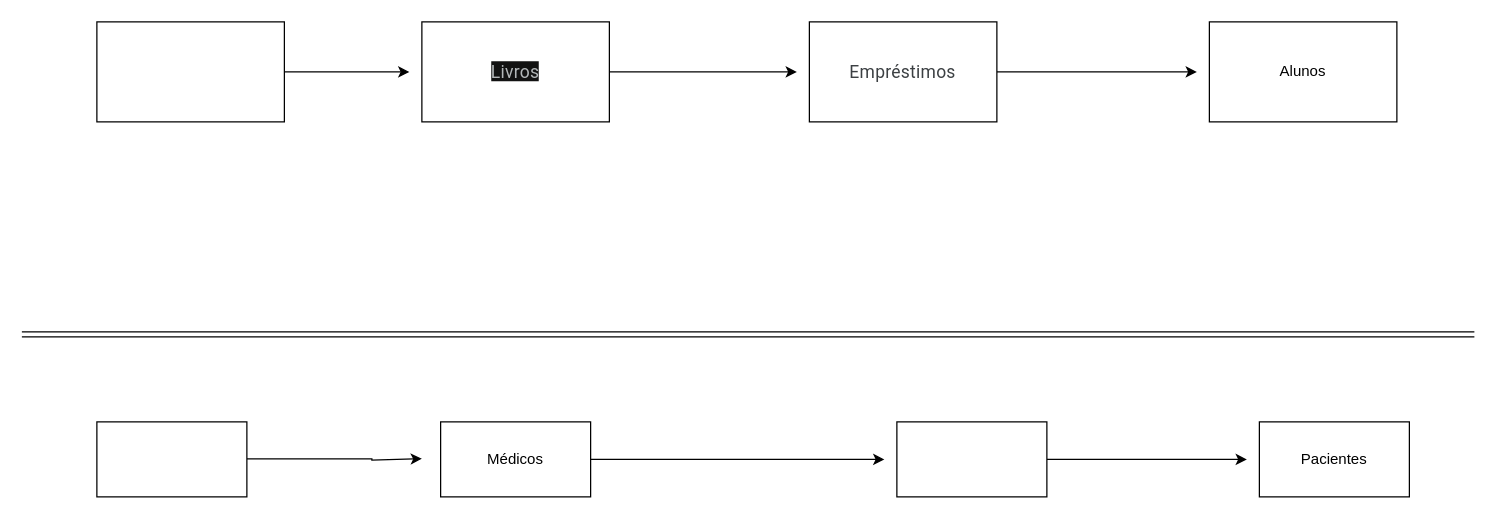
The diagram is 1496 pixels wide and 519 high, and some of its shapes have lost their labels. The box of each missing label's shape, as (x1, y1, x2, y2) in pixels:
Autores: (96, 21, 284, 122)
Consultas: (896, 421, 1047, 497)
Especialidades: (96, 421, 247, 497)
